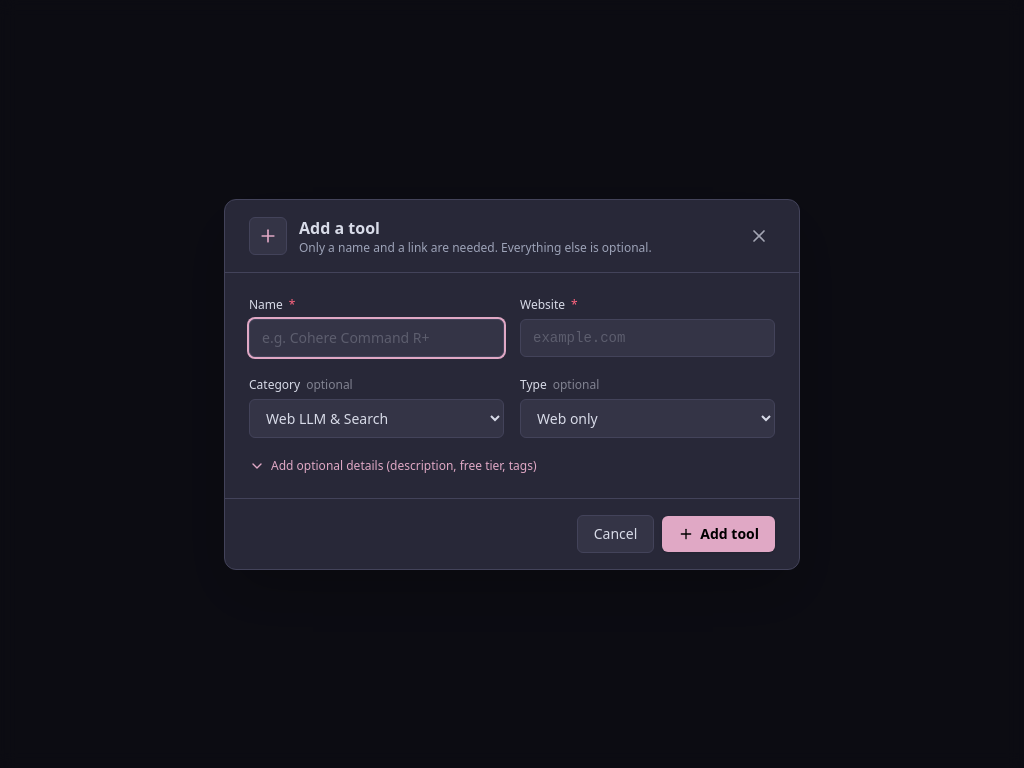
Scenario: AddToolModal › refuses a javascript: link and says why, without adding or closing
In the field with id "field-name": [376, 338] box [249,318,504,356], type "Evil"
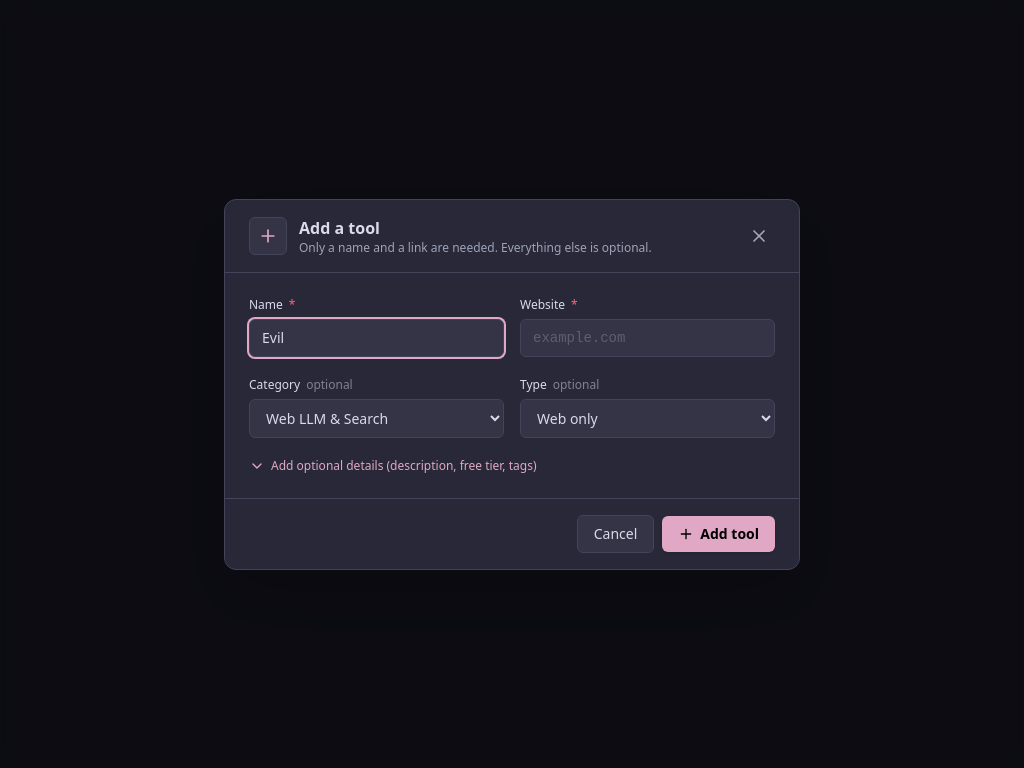
In the field with id "field-url": [648, 338] box [520,318,775,356], type "javascript:alert(1)"
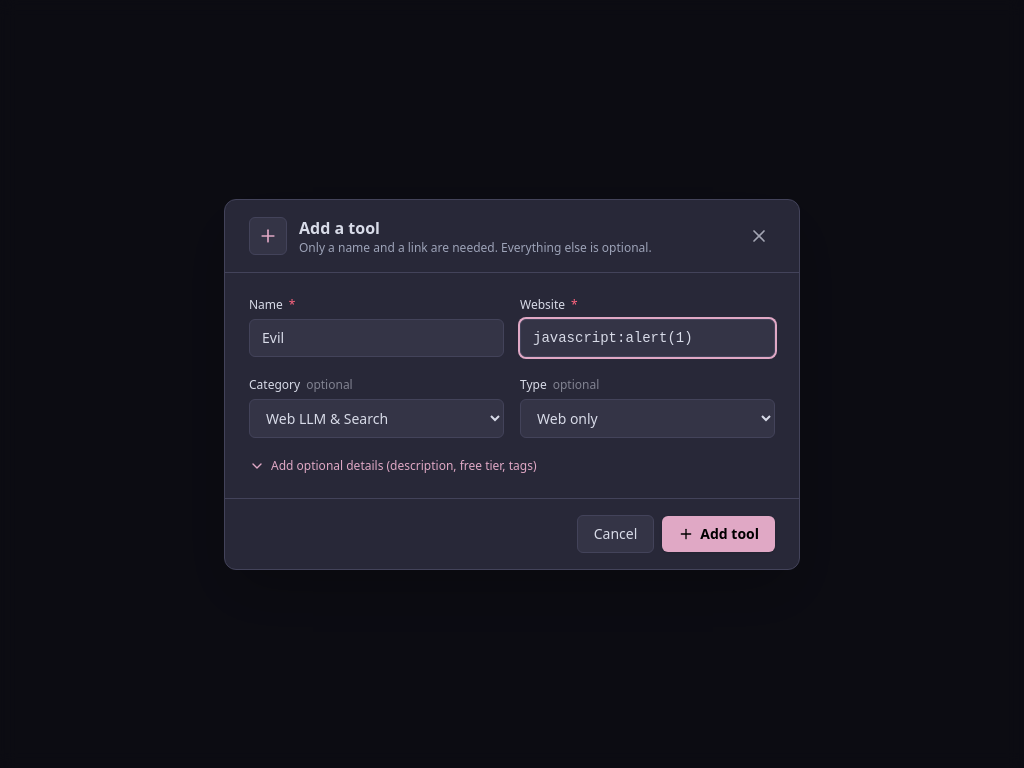
Click the button with id "btn-submit-add-tool": [719, 534] box [662,516,775,552]
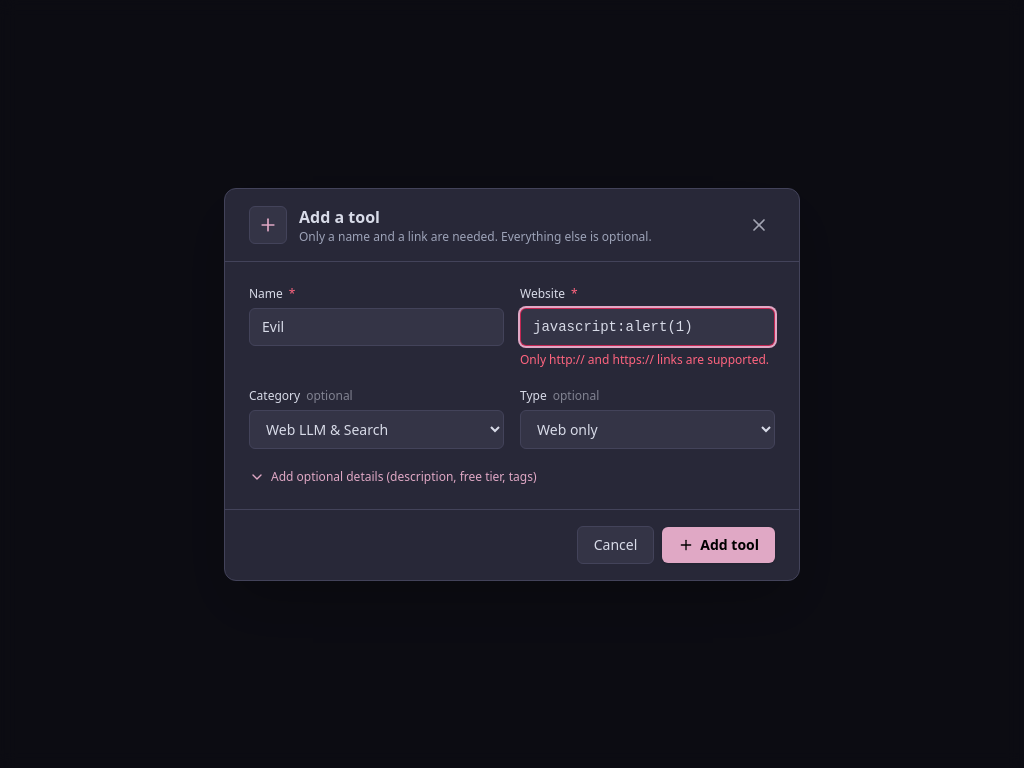
Expected: the message shows "Only http", [520,350,769,368]
